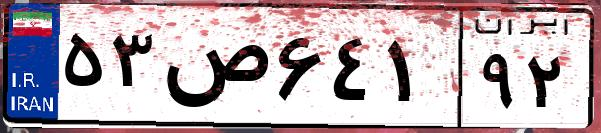1: (385, 28, 445, 110)
2: (525, 38, 570, 115)
3: (110, 28, 158, 98)
4: (330, 28, 385, 110)
5: (57, 26, 110, 100)
6: (270, 28, 330, 110)
9: (475, 38, 525, 113)
ص: (158, 20, 270, 120)
